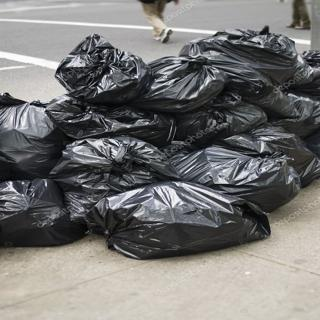Garbage: (77, 180, 277, 254), (51, 133, 182, 215), (168, 144, 301, 212), (180, 24, 316, 87), (0, 173, 86, 249), (57, 33, 149, 103), (0, 93, 61, 181), (141, 49, 226, 112), (248, 124, 319, 183)
